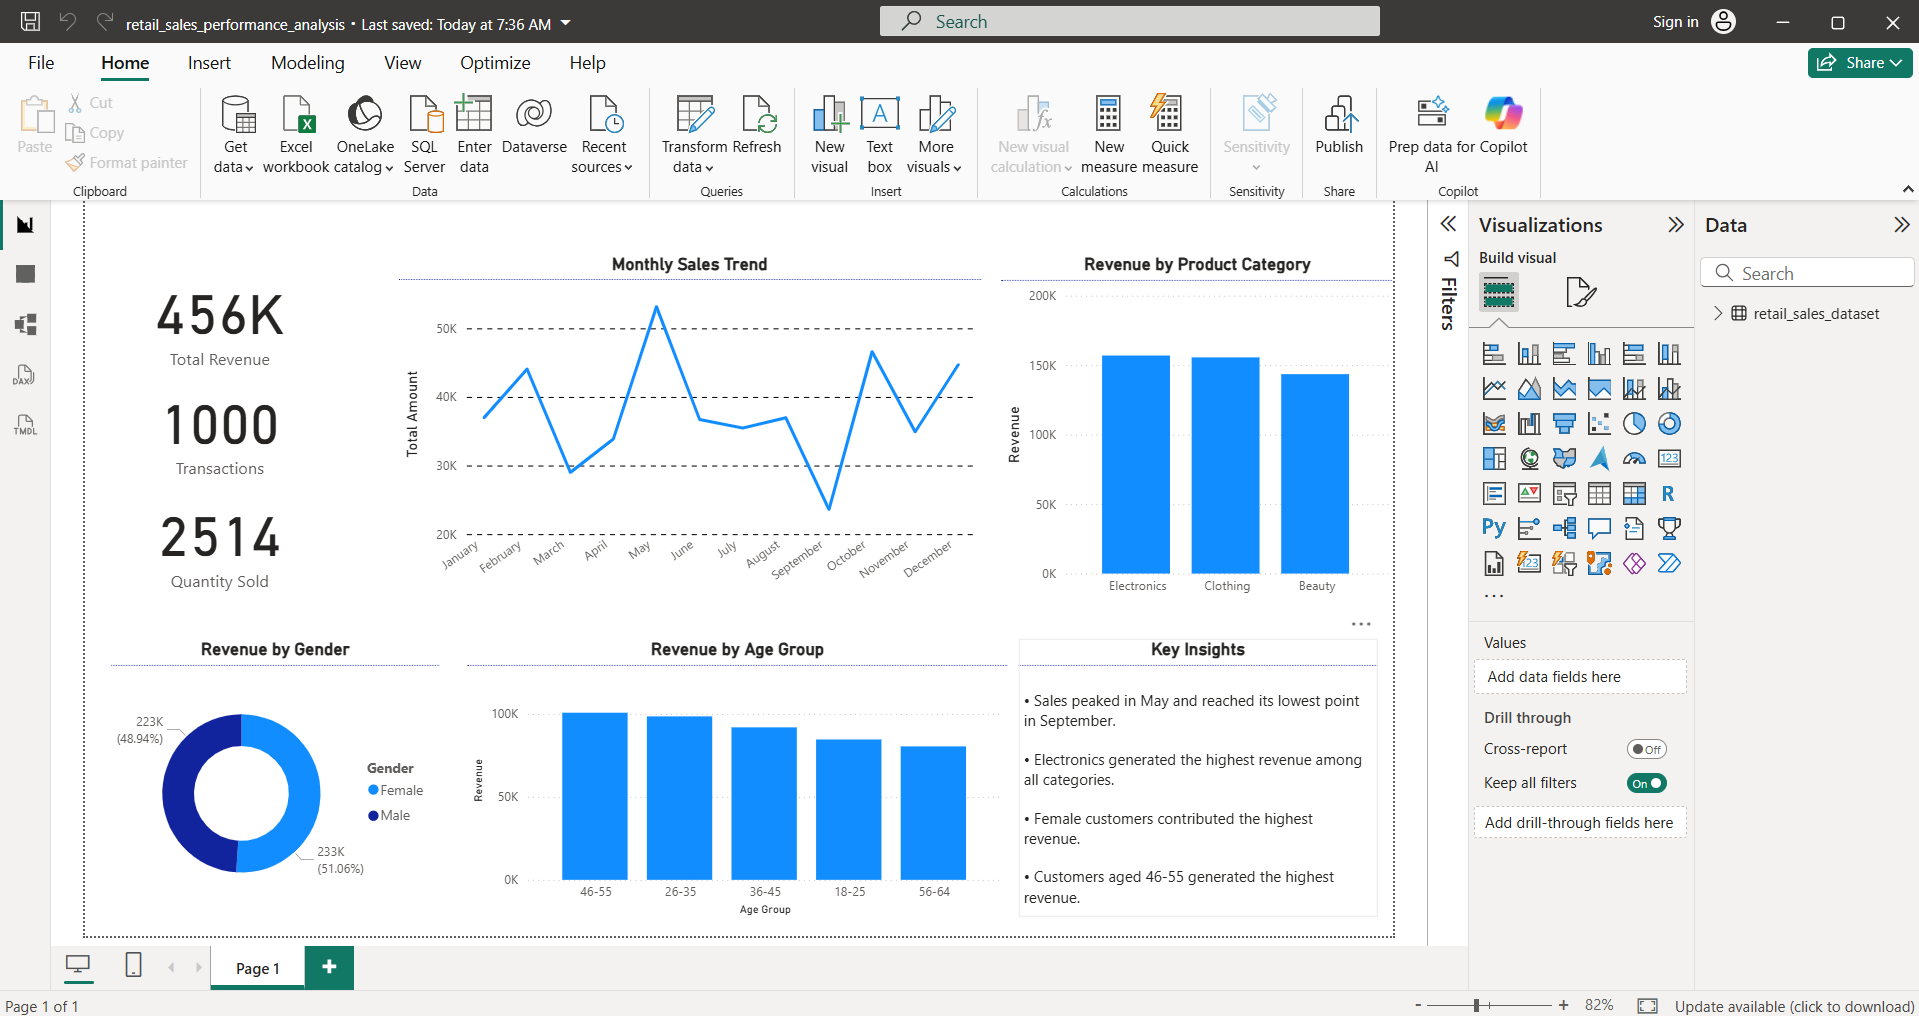

The dashboard page shown, as its layout file describes it:
{"tool":"powerbi","page":{"name":"Page 1","canvas":[1280,720],"ordinal":0},"visuals":[{"type":"card","fields":{"Values":["Sum(retail_sales_dataset.Total Amount)"]},"box":[41.2,63.1,181.1,105.7],"z":0},{"type":"card","fields":{"Values":["CountNonNull(retail_sales_dataset.Transaction ID)"]},"box":[41.2,168.8,181.1,109.8],"z":1000},{"type":"card","fields":{"Values":["Sum(retail_sales_dataset.Quantity)"]},"box":[41.2,278.6,181.1,109.8],"z":2000},{"type":"lineChart","title":" Monthly Sales Trend","fields":{"Y":["Sum(retail_sales_dataset.Total Amount)"],"Category":["retail_sales_dataset.Date.Variation.Date Hierarchy.Month"]},"box":[307.4,52.1,569.5,341.7],"z":3000},{"type":"lineStackedColumnComboChart","title":"Revenue by Product Category","fields":{"Category":["retail_sales_dataset.Product Category"],"Y":["Sum(retail_sales_dataset.Total Amount)"]},"box":[896.1,52.1,384.2,341.7],"z":4000},{"type":"donutChart","title":"Revenue by Gender","fields":{"Category":["retail_sales_dataset.Gender"],"Y":["Sum(retail_sales_dataset.Total Amount)"]},"box":[26.1,429.5,321.1,274.4],"z":5000},{"type":"columnChart","title":"Revenue by Age Group","fields":{"Category":["retail_sales_dataset.Age Group"],"Y":["Sum(retail_sales_dataset.Total Amount)"]},"box":[374.6,429.5,528.3,274.4],"z":6000},{"type":"textbox","title":"Key Insights","box":[913.5,429.2,351,271.5],"z":7000}]}

Visuals, with their boxes on the page's 1280x720 design canvas (x1, y1, x2, y2). These are canvas units, not pixel positions in the 1919x1016 screenshot, which may show the page scaled, cropped or inside an application window:
card - Sum(retail_sales_dataset.Total Amount): crop(41, 63, 222, 169)
card - CountNonNull(retail_sales_dataset.Transaction ID): crop(41, 169, 222, 279)
card - Sum(retail_sales_dataset.Quantity): crop(41, 279, 222, 388)
" Monthly Sales Trend" lineChart: crop(307, 52, 877, 394)
"Revenue by Product Category" lineStackedColumnComboChart: crop(896, 52, 1280, 394)
"Revenue by Gender" donutChart: crop(26, 430, 347, 704)
"Revenue by Age Group" columnChart: crop(375, 430, 903, 704)
"Key Insights" textbox: crop(914, 429, 1264, 701)
